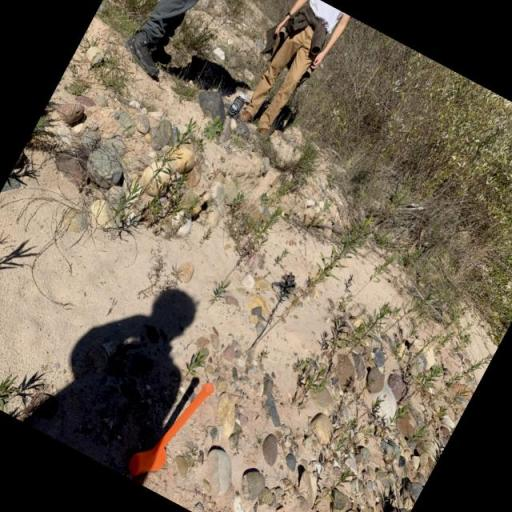bottle: (224, 90, 250, 122)
mallet: (124, 366, 216, 490)
